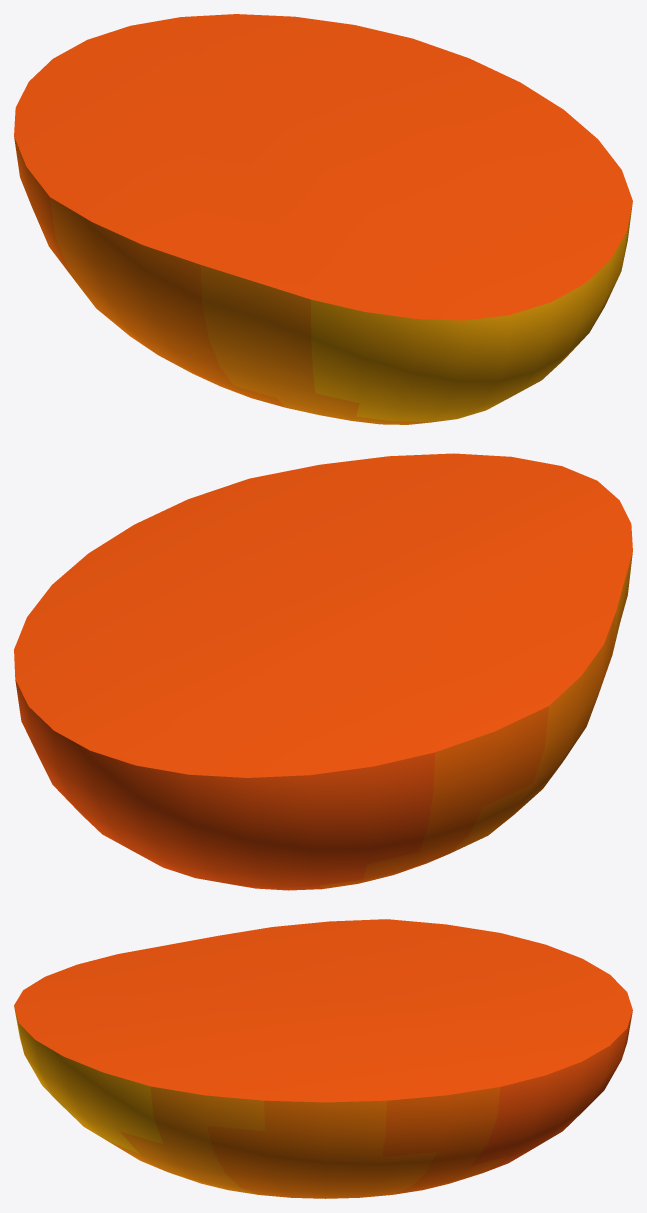
File: mango-half.fbx
3 renders of one model, top to bottom at view 1: azimuth 30°, elevation 25°; view 2: azimuth 150°, elevation 25°; view 3: azimuth 270°, elevation 25°, orthographic. The views are drawn at different scales.
Parts seen in each view (by area): view 1: Sphere; view 2: Sphere; view 3: Sphere.
Boxes of the visible parts, x1,y1,x2,y2 form: Sphere: (14, 14, 632, 424); Sphere: (14, 453, 632, 890); Sphere: (14, 919, 632, 1198).
Bounding box in the file's own units: 198 × 83.37 × 283.
